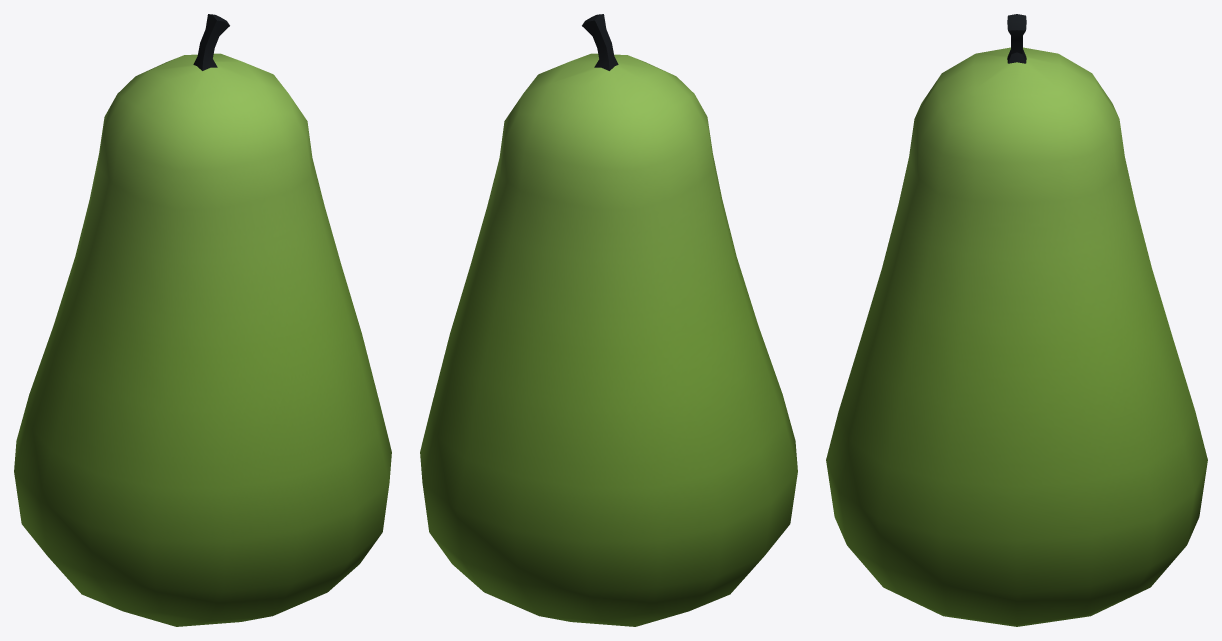
The model's file is SM_Pear_V02.fbx.
3 views of the same model, side by side, from view 1: azimuth 30°, elevation 25°; view 2: azimuth 150°, elevation 25°; view 3: azimuth 270°, elevation 25° (orthographic).
Visible parts, largest first — view 1: SM_Pear_V02; view 2: SM_Pear_V02; view 3: SM_Pear_V02.
Boxes of the visible parts, left/top/right/bottom form: SM_Pear_V02: left=14, top=14, right=391, bottom=626; SM_Pear_V02: left=420, top=14, right=797, bottom=626; SM_Pear_V02: left=826, top=14, right=1207, bottom=626.
Bounding box in the file's own units: 17.78 × 30.57 × 17.78.
